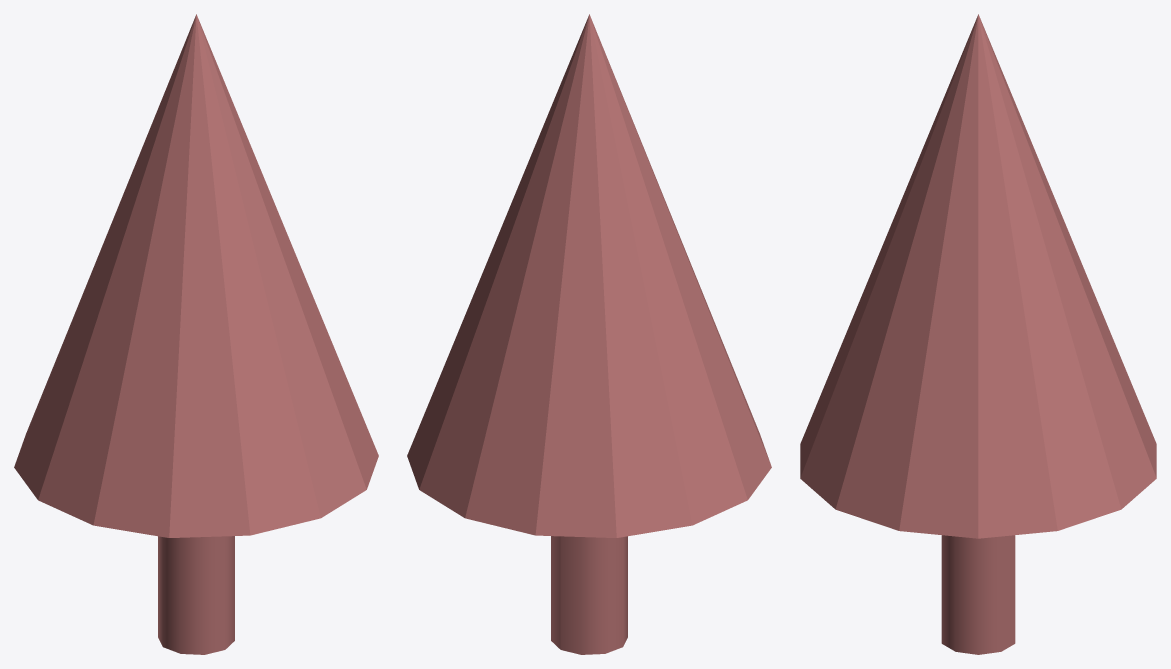
The model's file is tree2.glb.
3 views of the same model, side by side, from view 1: azimuth 30°, elevation 25°; view 2: azimuth 150°, elevation 25°; view 3: azimuth 270°, elevation 25° (orthographic).
Parts seen in each view (by area): view 1: x3ds_Cone01, x3ds_Cylinder01; view 2: x3ds_Cone01, x3ds_Cylinder01; view 3: x3ds_Cone01, x3ds_Cylinder01.
Boxes of the visible parts, x1=… form: x3ds_Cone01: x1=14, y1=14, x2=378, y2=537; x3ds_Cylinder01: x1=158, y1=536, x2=234, y2=654; x3ds_Cone01: x1=407, y1=14, x2=771, y2=537; x3ds_Cylinder01: x1=551, y1=536, x2=627, y2=654; x3ds_Cone01: x1=800, y1=14, x2=1156, y2=538; x3ds_Cylinder01: x1=941, y1=535, x2=1015, y2=654.
Size of the model in its own units: 72 by 136 by 70.19.
